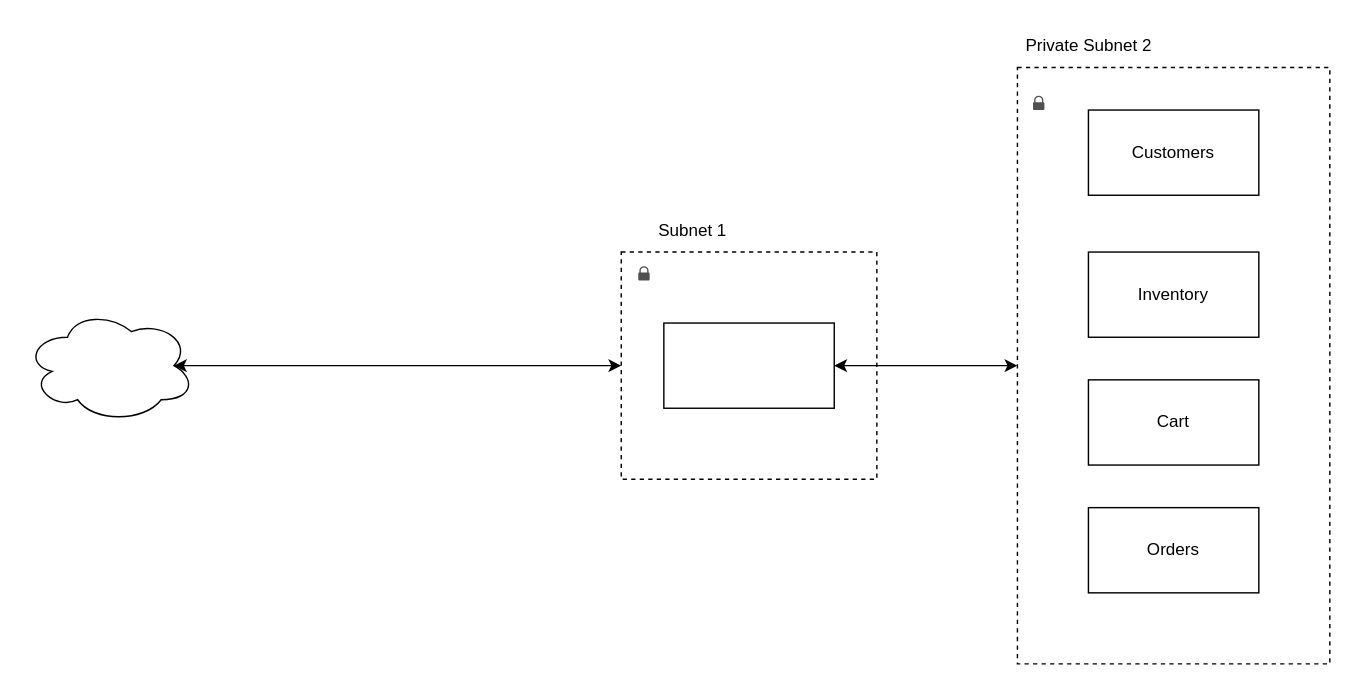
Some shapes in this 1355 by 689 pixel diagram are drawn without their labels. Here are the shapes that lost their labels. From the top down, the centre of each, then its label:
At [109,364]: "Internet".
At [748,365]: "Scribble App".
